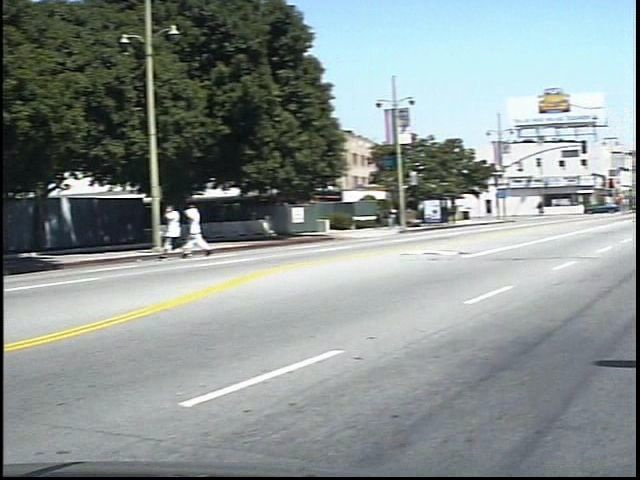person: (177, 196, 203, 259), (198, 198, 223, 259), (399, 203, 414, 230), (546, 194, 559, 219)
